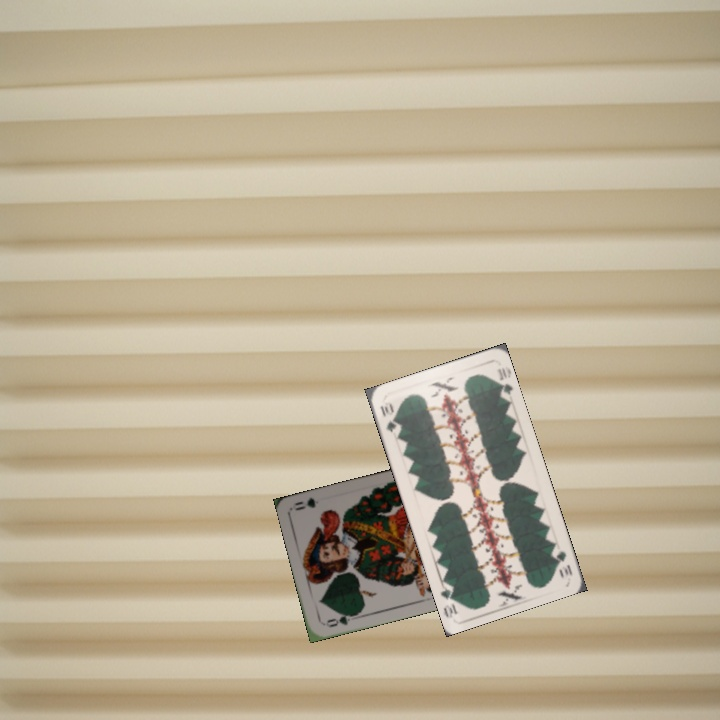G10: (376, 399, 400, 435), (550, 547, 575, 580)
GO: (320, 609, 360, 630)
